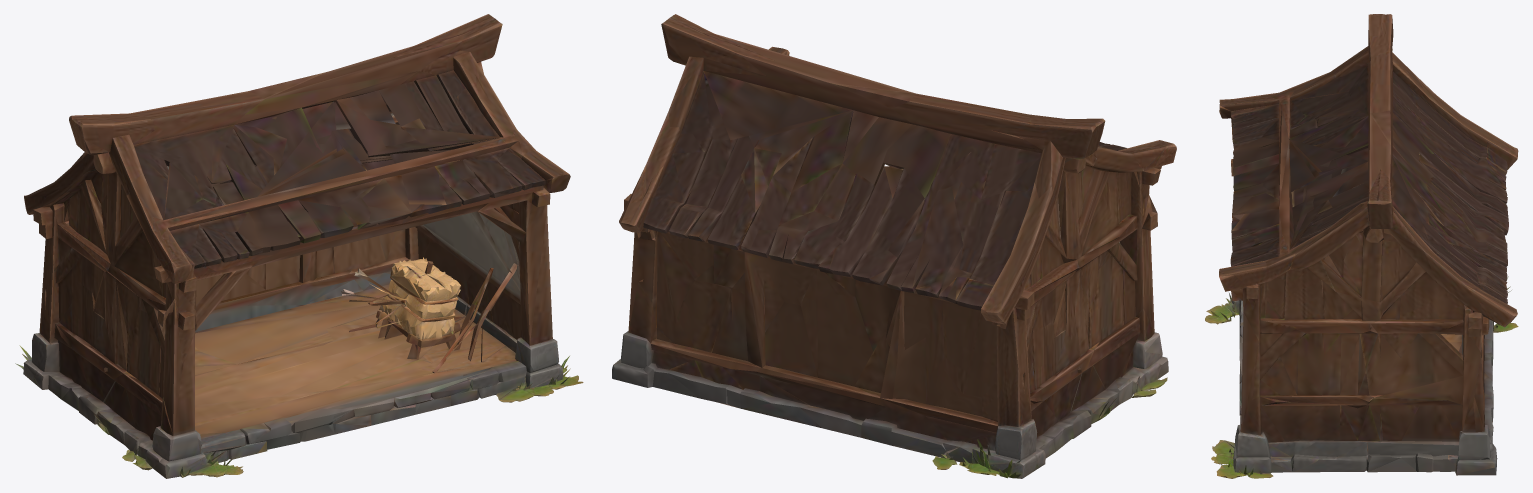
File: archery.glb
3 views of the same model, side by side, from view 1: azimuth 30°, elevation 25°; view 2: azimuth 150°, elevation 25°; view 3: azimuth 270°, elevation 25° (orthographic). The views are drawn at different scales.
Size of the model in its own units: 1.89 by 1.28 by 1.31.
Materials: 1 (1 with a texture image).
